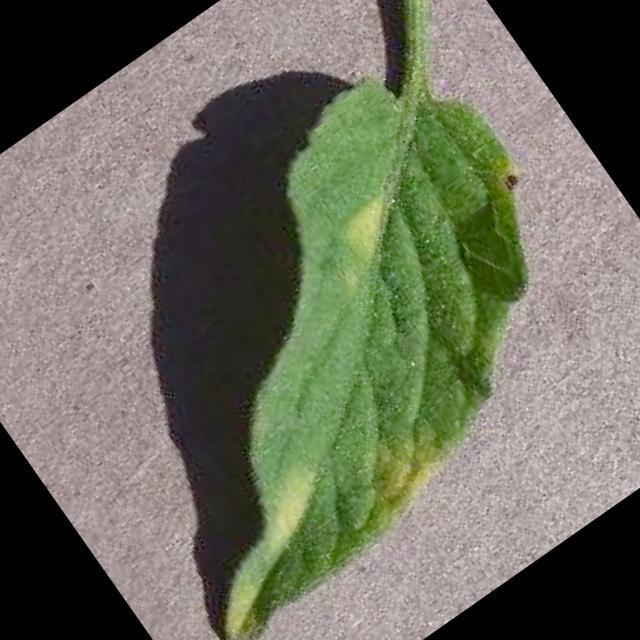Tomato mold leaf: (4, 33, 640, 640)
